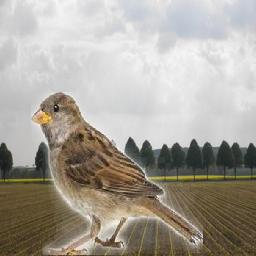Sparrow: (31, 93, 203, 256)
